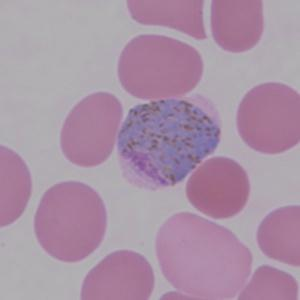Infected: (116, 95, 223, 191)
Uninfected: (156, 212, 253, 297), (34, 181, 107, 262), (119, 34, 204, 100), (60, 92, 123, 167), (236, 83, 300, 153), (184, 157, 249, 219), (79, 250, 154, 300), (212, 0, 265, 52), (256, 203, 300, 264)
